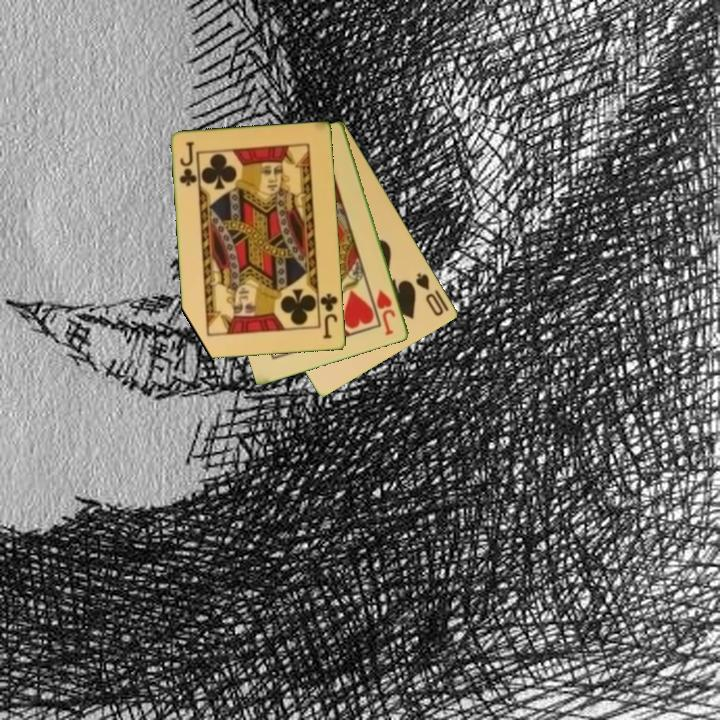10s: (412, 269, 447, 319)
Jc: (317, 290, 341, 342), (176, 138, 199, 189)
Jh: (373, 286, 398, 338)
